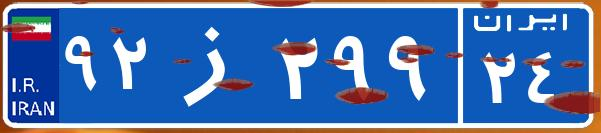2: (273, 28, 330, 110), (475, 38, 525, 113), (110, 28, 158, 105)
4: (525, 38, 570, 115)
9: (385, 28, 445, 110), (330, 28, 385, 110), (57, 26, 110, 107)
ز: (158, 15, 273, 115)
